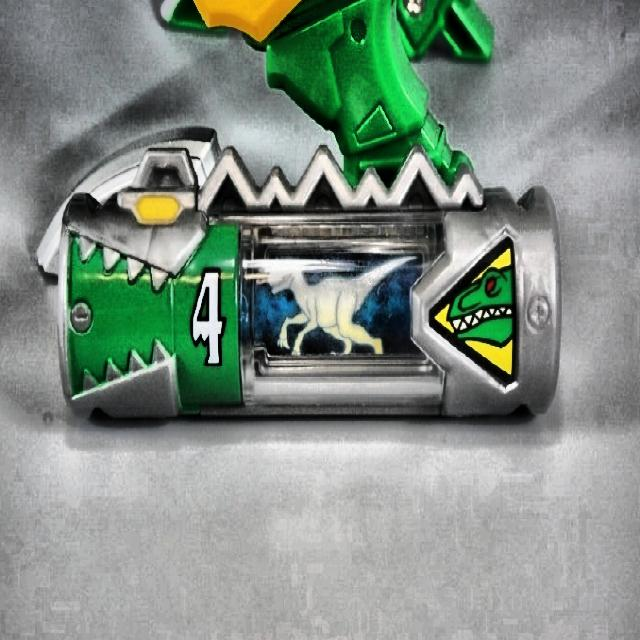Non-Valuable Waste - Batteries: (53, 132, 560, 417)
